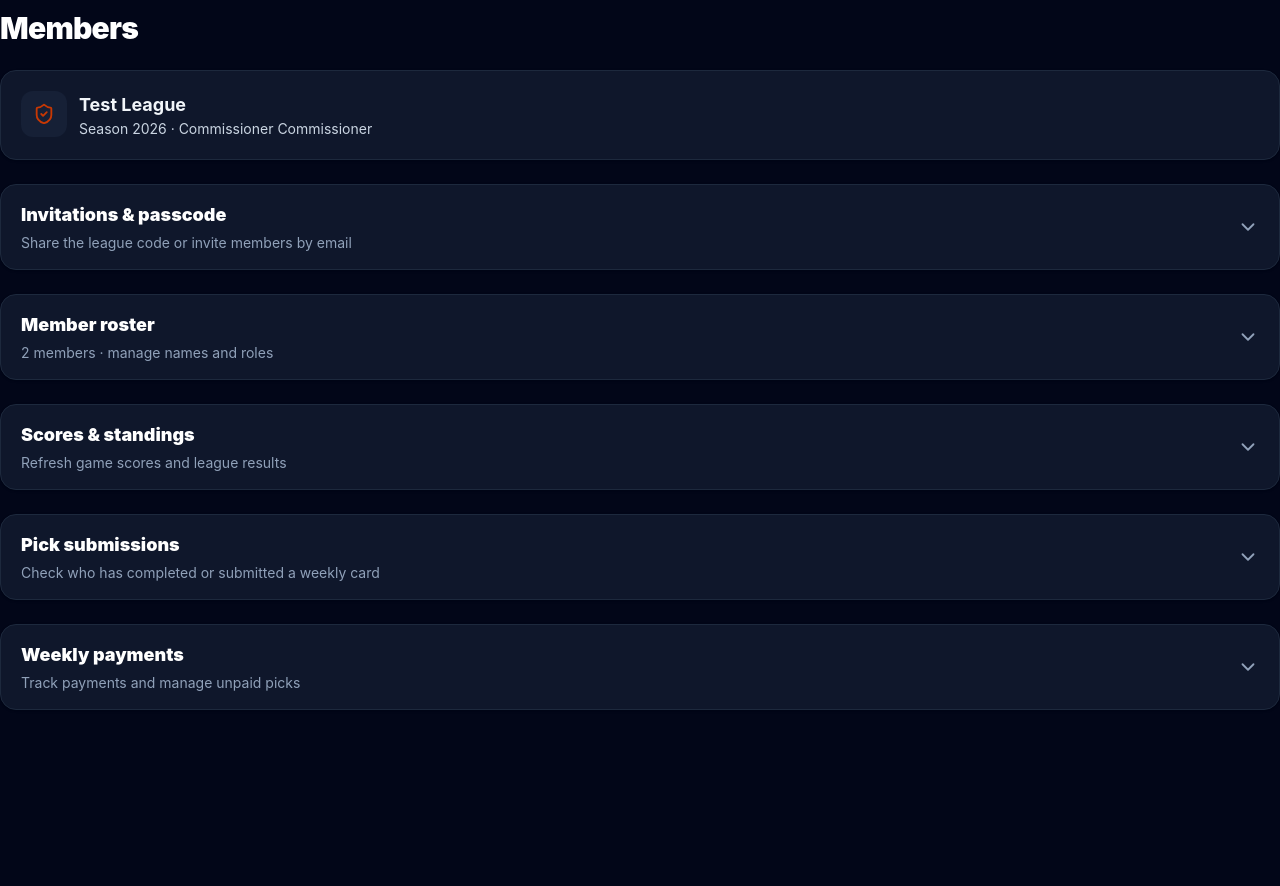
Test: LeagueSettingsPage › groups tools in accordions that are all closed by default
expect the text "League passcode" is not shown: met
What coordinates should you click on to do the following:
click the button "Invitations & passcode"
I would click on:
 (124, 214)
Its box is [1,185,1279,269].
(page scrolled)
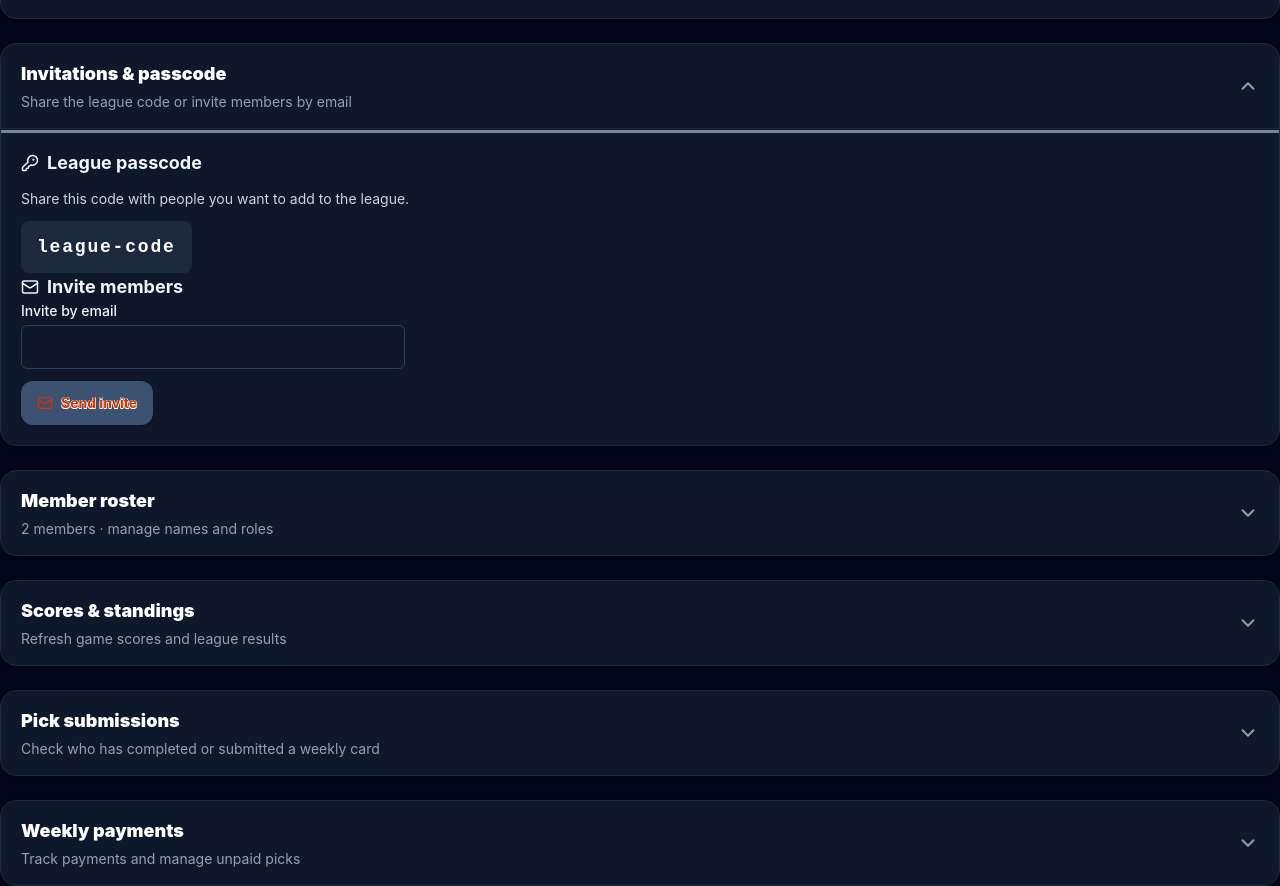
expect the heading "League passcode" is shown: met, box [21,152,202,173]
